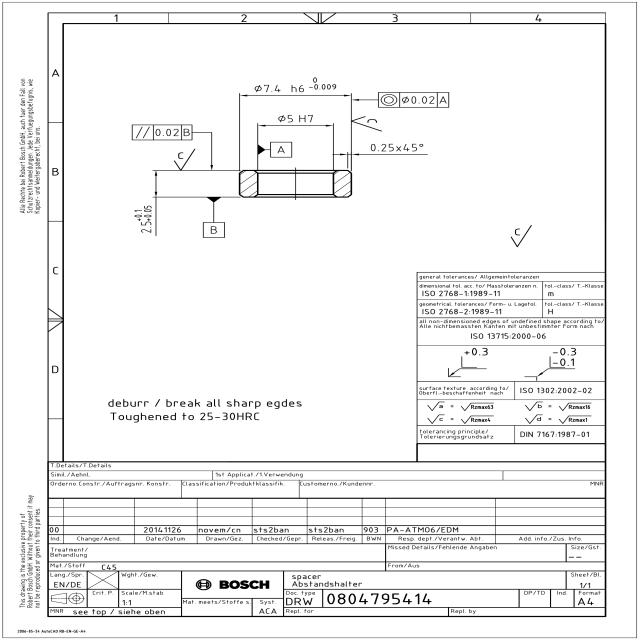dimension: (250, 75, 340, 94), (368, 142, 427, 153), (133, 204, 154, 234), (276, 113, 315, 123)
